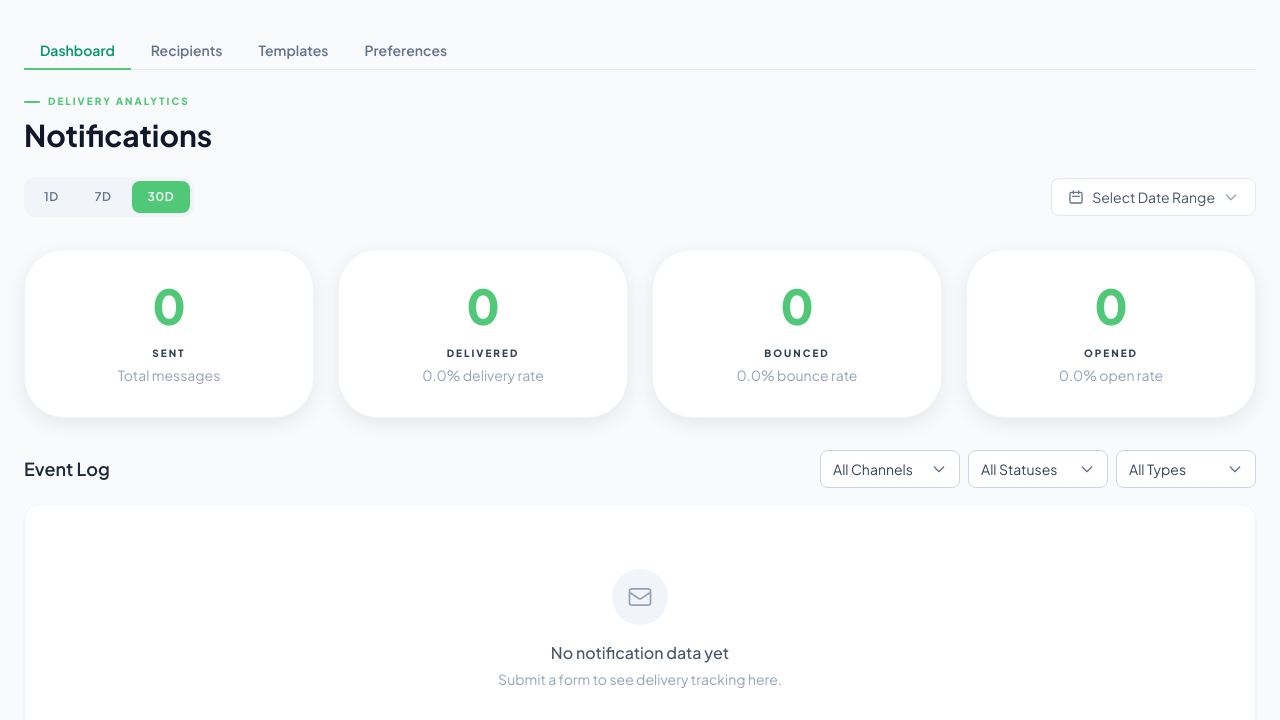
Test: NotificationsDashboard — former recipient resolution › shows a deactivated recipient by name + Former badge; unknown id stays a UUID
The width and height of the screenshot is (1280, 720).
Click the tab "Recipients".
click(187, 51)  # box left=135, top=32, right=238, bottom=70
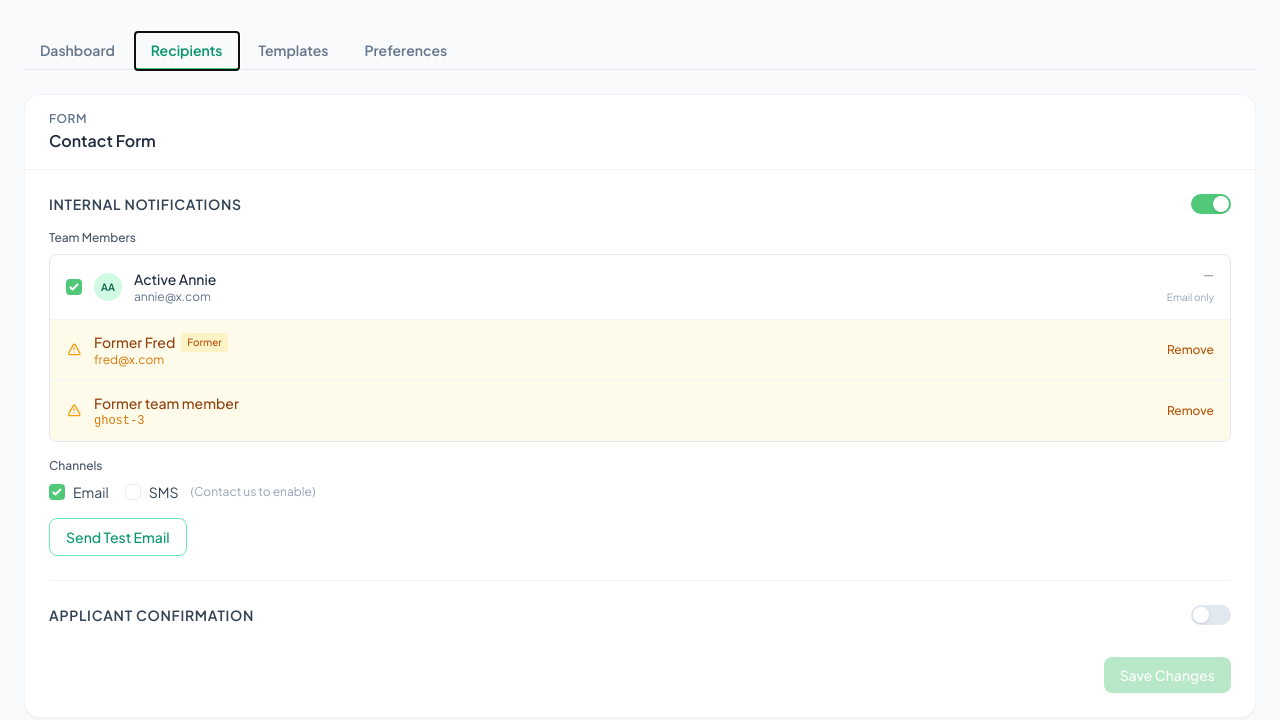
Check: the text "Active Annie" is shown, box left=134, top=269, right=216, bottom=289
Check: the text "Former Fred" is shown, box left=94, top=332, right=175, bottom=352
Check: the text "Former" is shown, box left=181, top=332, right=228, bottom=352
